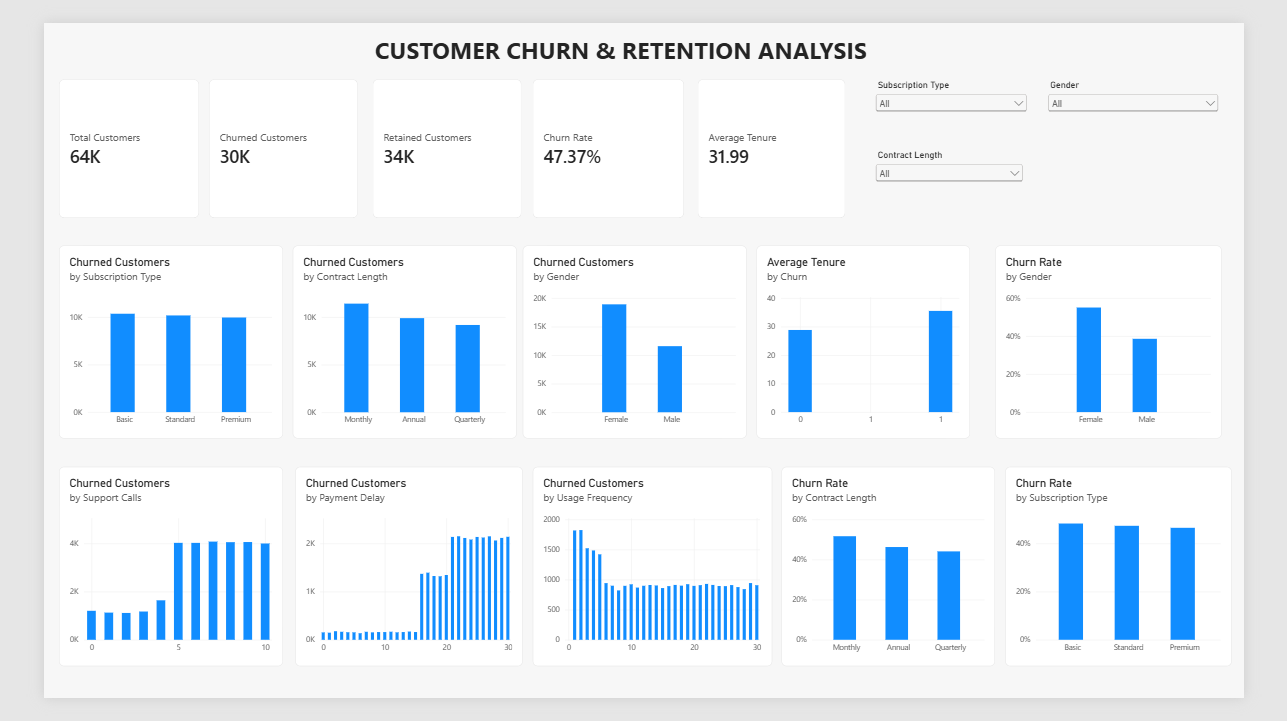

The page's visual inventory and layout, read from the dashboard file:
{"tool":"powerbi","page":{"name":"Page 1","canvas":[1920,1080],"ordinal":0},"visuals":[{"type":"cardVisual","fields":{"Data":["customer_churn_dataset-testing-master.Total Customers"]},"box":[24.7,90.6,224.4,222.3],"z":0},{"type":"cardVisual","fields":{"Data":["customer_churn_dataset-testing-master.Churned Customers"]},"box":[263.5,90.6,238.8,222.3],"z":1000},{"type":"cardVisual","fields":{"Data":["customer_churn_dataset-testing-master.Retained Customers"]},"box":[526.9,90.6,238.8,222.3],"z":2000},{"type":"cardVisual","fields":{"Data":["customer_churn_dataset-testing-master.Churn Rate"]},"box":[782.2,90.6,242.9,222.3],"z":3000},{"type":"clusteredColumnChart","fields":{"Category":["customer_churn_dataset-testing-master.Subscription Type"],"Y":["customer_churn_dataset-testing-master.Churned Customers"]},"box":[24.7,356.1,358.1,308.7],"z":4000},{"type":"clusteredColumnChart","fields":{"Category":["customer_churn_dataset-testing-master.Contract Length"],"Y":["customer_churn_dataset-testing-master.Churned Customers"]},"box":[397.3,356.1,358,309],"z":5000},{"type":"clusteredColumnChart","fields":{"Category":["customer_churn_dataset-testing-master.Gender"],"Y":["customer_churn_dataset-testing-master.Churned Customers"]},"box":[765.7,356.1,358,309],"z":6000},{"type":"clusteredColumnChart","fields":{"Category":["customer_churn_dataset-testing-master.Support Calls"],"Y":["customer_churn_dataset-testing-master.Churned Customers"]},"box":[24.7,710.1,358.1,319],"z":7000},{"type":"clusteredColumnChart","fields":{"Category":["customer_churn_dataset-testing-master.Payment Delay"],"Y":["customer_churn_dataset-testing-master.Churned Customers"]},"box":[401.4,710.1,364.3,319],"z":8000},{"type":"clusteredColumnChart","fields":{"Category":["customer_churn_dataset-testing-master.Usage Frequency"],"Y":["customer_churn_dataset-testing-master.Churned Customers"]},"box":[782.2,710.1,382.8,319],"z":9000},{"type":"cardVisual","fields":{"Data":["customer_churn_dataset-testing-master.Average Tenure"]},"box":[1045.6,90.6,236.7,222.3],"z":10000},{"type":"clusteredColumnChart","fields":{"Category":["customer_churn_dataset-testing-master.Churn"],"Y":["customer_churn_dataset-testing-master.Average Tenure"]},"box":[1140.3,356.1,341.7,308.7],"z":11000},{"type":"clusteredColumnChart","fields":{"Category":["customer_churn_dataset-testing-master.Subscription Type"],"Y":["customer_churn_dataset-testing-master.Churn Rate"]},"box":[1537.6,710.1,362.3,319],"z":12000},{"type":"clusteredColumnChart","fields":{"Category":["customer_churn_dataset-testing-master.Contract Length"],"Y":["customer_churn_dataset-testing-master.Churn Rate"]},"box":[1179.4,710.1,341.7,319],"z":13000},{"type":"clusteredColumnChart","fields":{"Category":["customer_churn_dataset-testing-master.Gender"],"Y":["customer_churn_dataset-testing-master.Churn Rate"]},"box":[1521.1,356.1,362.3,308.7],"z":14000},{"type":"slicer","fields":{"Values":["customer_churn_dataset-testing-master.Subscription Type"]},"box":[1325.6,90.6,251.1,111.1],"z":14001},{"type":"slicer","fields":{"Values":["customer_churn_dataset-testing-master.Contract Length"]},"box":[1325.6,201.7,244.9,111.1],"z":14002},{"type":"slicer","fields":{"Values":["customer_churn_dataset-testing-master.Gender"]},"box":[1601.4,90.6,282,111.1],"z":14003},{"type":"textbox","box":[105,18.5,1638.4,55.6],"z":14004}]}

Visuals, with their boxes in screenshot pixels (x1, y1, x2, y2), scaled from the page's 1920x1080 canvas onto the 1287x721 screenshot:
cardVisual - customer_churn_dataset-testing-master.Total Customers: [17,60,167,209]
cardVisual - customer_churn_dataset-testing-master.Churned Customers: [177,60,337,209]
cardVisual - customer_churn_dataset-testing-master.Retained Customers: [353,60,513,209]
cardVisual - customer_churn_dataset-testing-master.Churn Rate: [524,60,687,209]
clusteredColumnChart - customer_churn_dataset-testing-master.Subscription Type x customer_churn_dataset-testing-master.Churned Customers: [17,238,257,444]
clusteredColumnChart - customer_churn_dataset-testing-master.Contract Length x customer_churn_dataset-testing-master.Churned Customers: [266,238,506,444]
clusteredColumnChart - customer_churn_dataset-testing-master.Gender x customer_churn_dataset-testing-master.Churned Customers: [513,238,753,444]
clusteredColumnChart - customer_churn_dataset-testing-master.Support Calls x customer_churn_dataset-testing-master.Churned Customers: [17,474,257,687]
clusteredColumnChart - customer_churn_dataset-testing-master.Payment Delay x customer_churn_dataset-testing-master.Churned Customers: [269,474,513,687]
clusteredColumnChart - customer_churn_dataset-testing-master.Usage Frequency x customer_churn_dataset-testing-master.Churned Customers: [524,474,781,687]
cardVisual - customer_churn_dataset-testing-master.Average Tenure: [701,60,860,209]
clusteredColumnChart - customer_churn_dataset-testing-master.Churn x customer_churn_dataset-testing-master.Average Tenure: [764,238,993,444]
clusteredColumnChart - customer_churn_dataset-testing-master.Subscription Type x customer_churn_dataset-testing-master.Churn Rate: [1031,474,1274,687]
clusteredColumnChart - customer_churn_dataset-testing-master.Contract Length x customer_churn_dataset-testing-master.Churn Rate: [791,474,1020,687]
clusteredColumnChart - customer_churn_dataset-testing-master.Gender x customer_churn_dataset-testing-master.Churn Rate: [1020,238,1262,444]
slicer - customer_churn_dataset-testing-master.Subscription Type: [889,60,1057,135]
slicer - customer_churn_dataset-testing-master.Contract Length: [889,135,1053,209]
slicer - customer_churn_dataset-testing-master.Gender: [1073,60,1262,135]
textbox: [70,12,1169,49]
